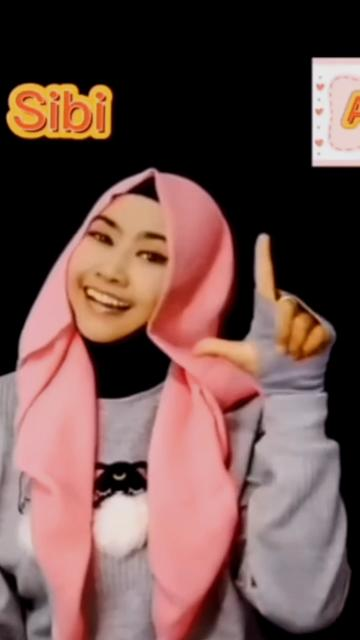L: (184, 229, 344, 399)
